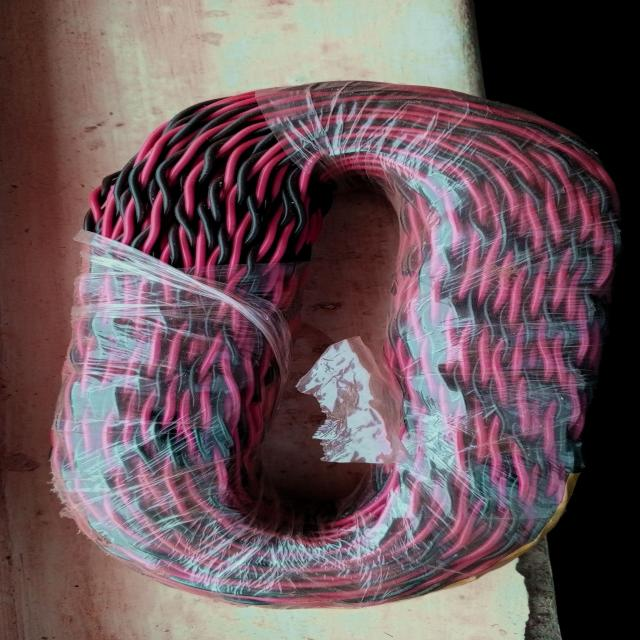Connecting Wires: (43, 80, 636, 608)
